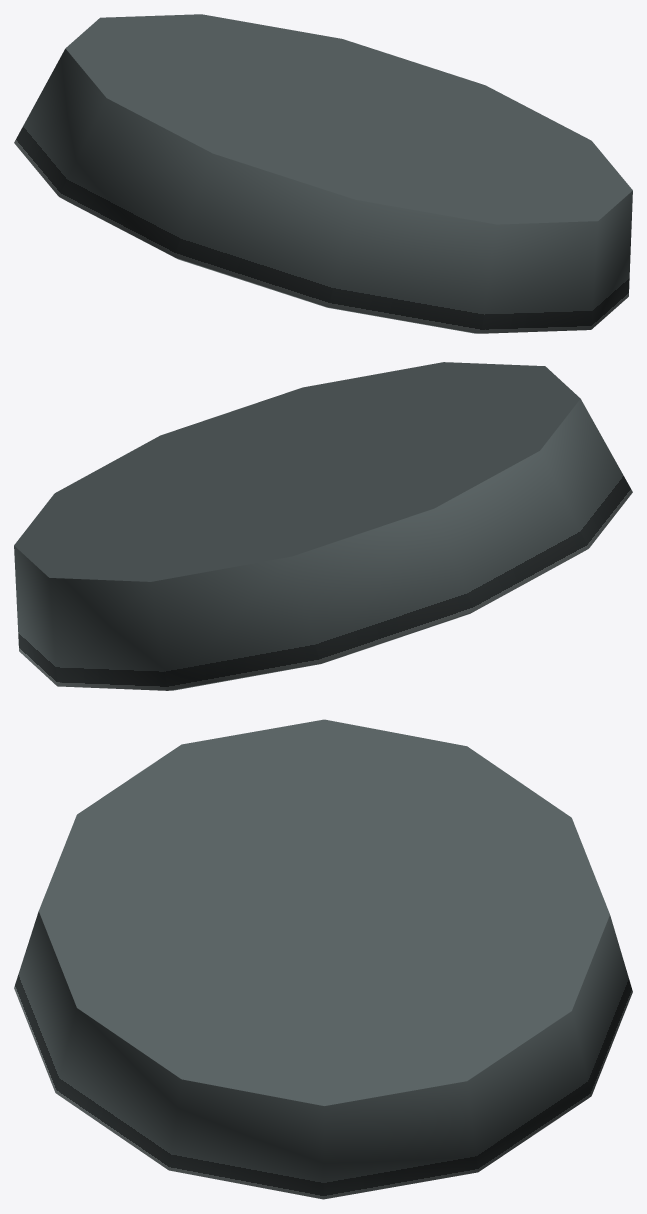
File: H_CakePan.fbx
The picture shows the model from 3 angles, top to bottom: view 1: azimuth 30°, elevation 25°; view 2: azimuth 150°, elevation 25°; view 3: azimuth 270°, elevation 25°; orthographic projection. The views are drawn at different scales.
Visible parts, largest first — view 1: Cake001; view 2: Cake001; view 3: Cake001.
Boxes of the visible parts, bbox=[...] form: Cake001: bbox=[14, 14, 632, 333]; Cake001: bbox=[14, 362, 632, 690]; Cake001: bbox=[14, 719, 632, 1199].
Bounding box in the file's own units: 46.82 × 21.91 × 48.38.
